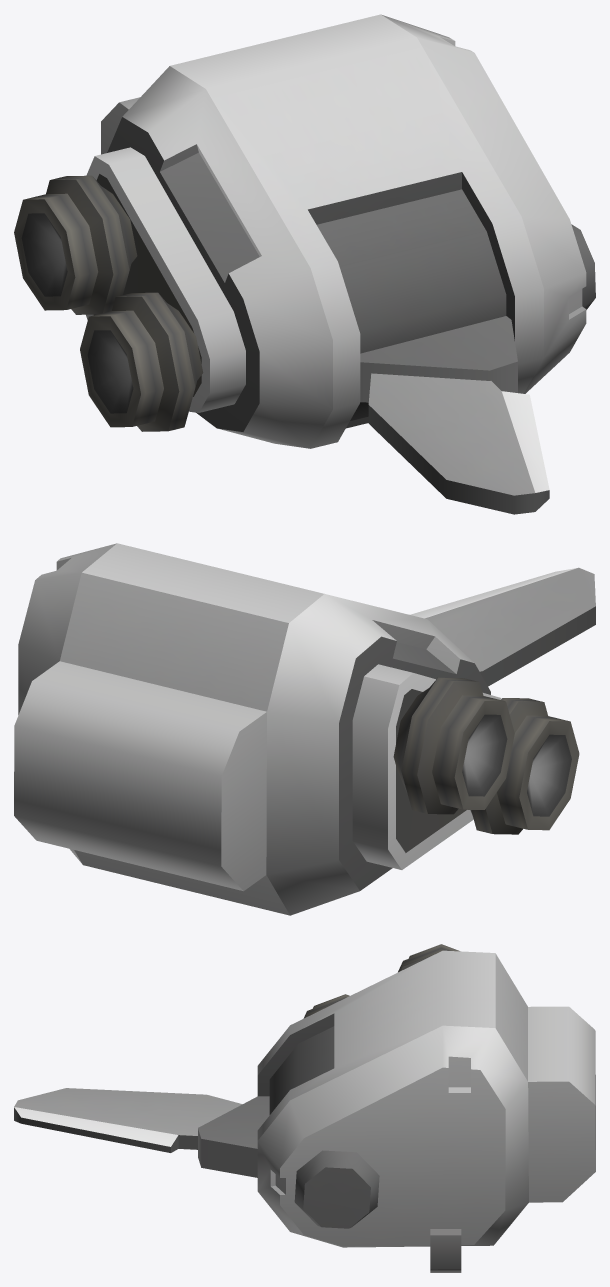
Rendered from Jet1R.fbx.
3 renders of one model, top to bottom at view 1: azimuth 30°, elevation 25°; view 2: azimuth 150°, elevation 25°; view 3: azimuth 270°, elevation 25°, orthographic. The views are drawn at different scales.
Parts seen in each view (by area): view 1: Jet1R.012, Jet1R.010, Jet1R.001, Jet1R.004, Jet1R.007, Jet1R.006, Jet1R.009, Jet1R.011, Jet1R.008, Jet1R.002, Jet1R.005; view 2: Jet1R.005, Jet1R.010, Jet1R.012, Jet1R.006, Jet1R.001, Jet1R.007, Jet1R.009, Jet1R.004, Jet1R.008; view 3: Jet1R.004, Jet1R.012, Jet1R.005, Jet1R.001, Jet1R.002, Jet1R.011, Jet1R.003, Jet1R.006.
Part boxes in pixels (x1,y1,x2,y2): Jet1R.012: [170, 14, 543, 448]; Jet1R.010: [107, 66, 332, 448]; Jet1R.001: [368, 373, 549, 514]; Jet1R.004: [381, 14, 586, 393]; Jet1R.007: [80, 292, 203, 431]; Jet1R.006: [14, 175, 137, 314]; Jet1R.009: [95, 147, 245, 412]; Jet1R.011: [360, 316, 517, 402]; Jet1R.008: [86, 156, 209, 412]; Jet1R.002: [571, 224, 595, 309]; Jet1R.005: [101, 97, 140, 154]; Jet1R.005: [14, 661, 266, 891]; Jet1R.010: [266, 594, 490, 915]; Jet1R.012: [60, 543, 324, 915]; Jet1R.006: [393, 677, 514, 814]; Jet1R.001: [410, 567, 595, 686]; Jet1R.007: [470, 698, 579, 834]; Jet1R.009: [352, 664, 412, 869]; Jet1R.004: [18, 543, 116, 863]; Jet1R.008: [388, 673, 501, 869]; Jet1R.004: [257, 1025, 528, 1247]; Jet1R.012: [257, 950, 527, 1186]; Jet1R.005: [528, 1006, 595, 1202]; Jet1R.001: [14, 1088, 242, 1152]; Jet1R.002: [294, 1150, 379, 1228]; Jet1R.011: [198, 1096, 269, 1177]; Jet1R.003: [430, 1229, 461, 1272]; Jet1R.006: [398, 944, 459, 972].
Size of the model in its own units: 1.44 by 0.9259 by 2.18.
